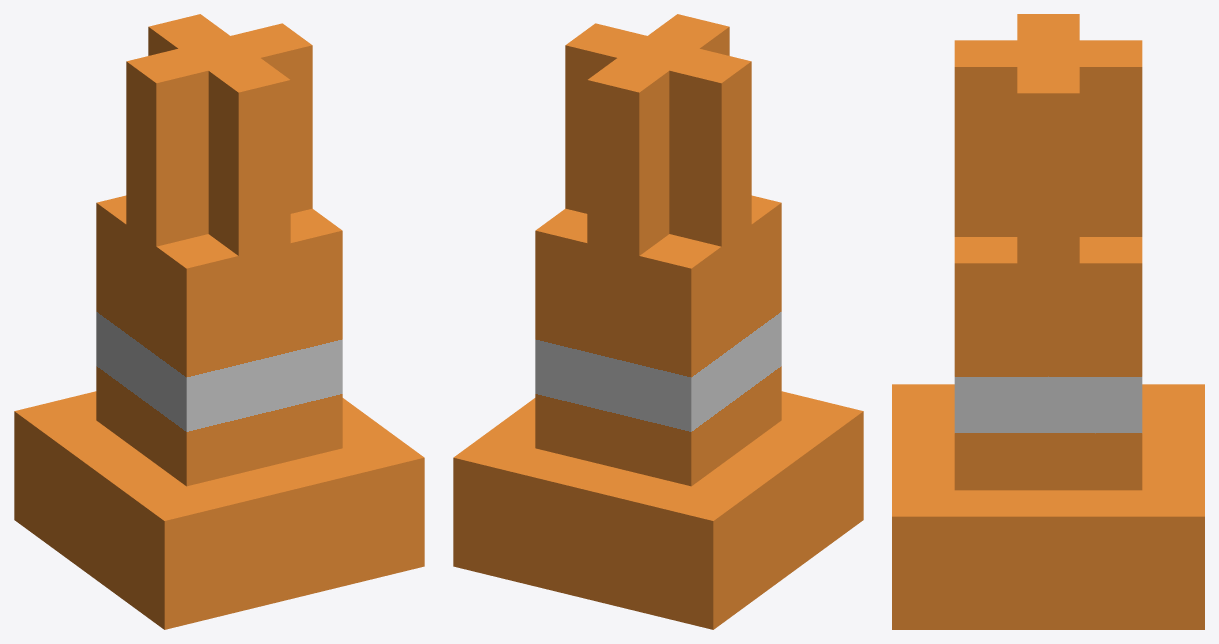
The model's file is Cono.fbx.
The picture shows the model from 3 angles, left to right: view 1: azimuth 30°, elevation 25°; view 2: azimuth 150°, elevation 25°; view 3: azimuth 270°, elevation 25°; orthographic projection. The views are drawn at different scales.
Visible parts, largest first — view 1: Cono; view 2: Cono; view 3: Cono.
Part boxes in pixels (x1=…): Cono: x1=14, y1=14, x2=424, y2=629; Cono: x1=453, y1=14, x2=863, y2=629; Cono: x1=892, y1=14, x2=1204, y2=629.
Bounding box in the file's own units: 5 × 9 × 5.
